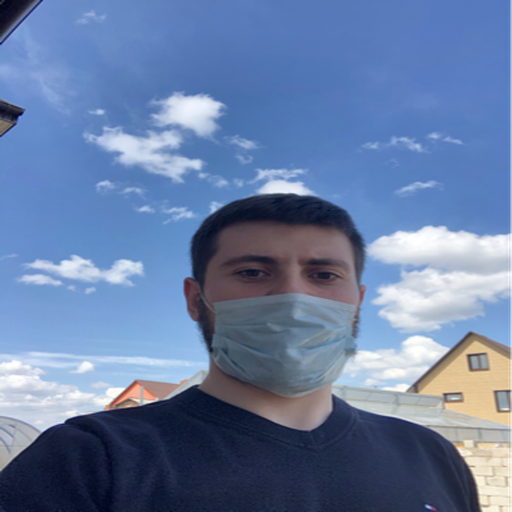mask: (218, 301, 350, 391)
